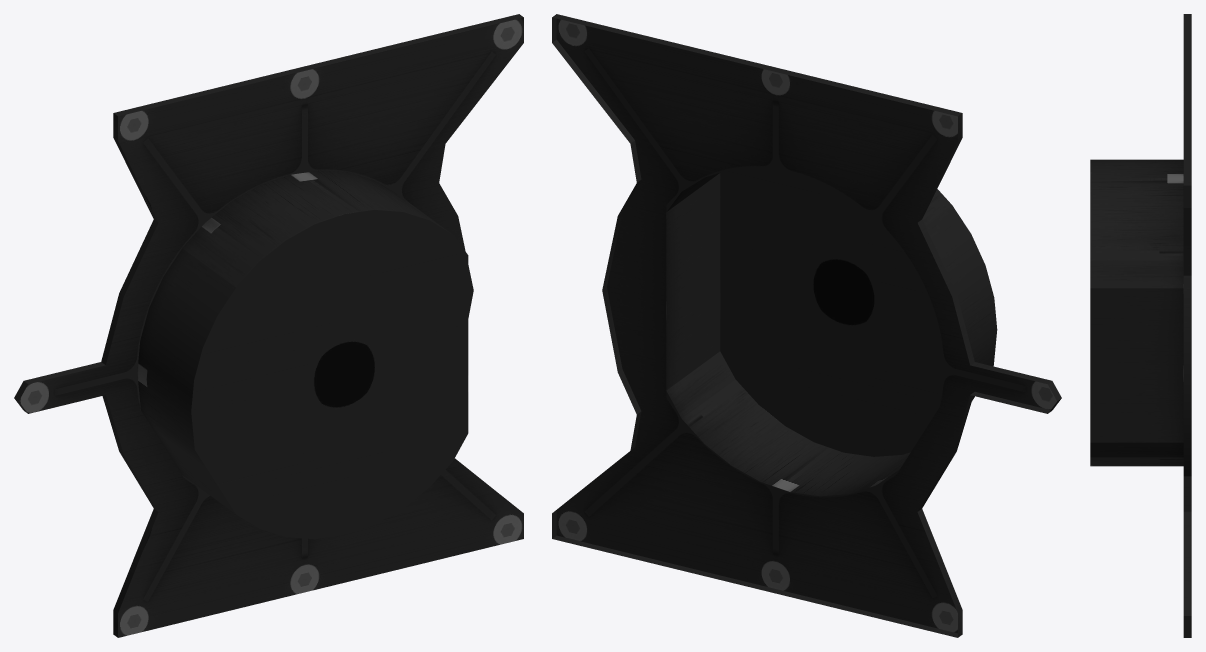
File: hatch.obj
3 views of the same model, side by side, from view 1: azimuth 30°, elevation 25°; view 2: azimuth 150°, elevation 25°; view 3: azimuth 270°, elevation 25° (orthographic). The views are drawn at different scales.
Bounding box in the file's own units: 0.1245 × 0.1228 × 0.025.
